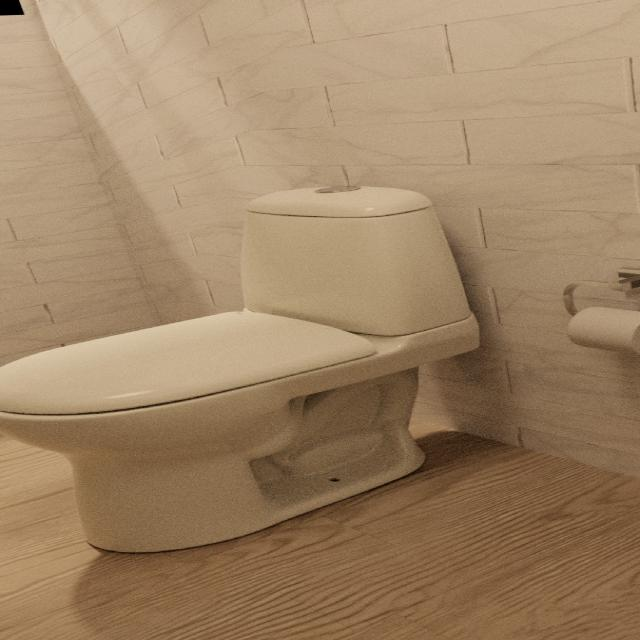toilet: (0, 184, 481, 552)
